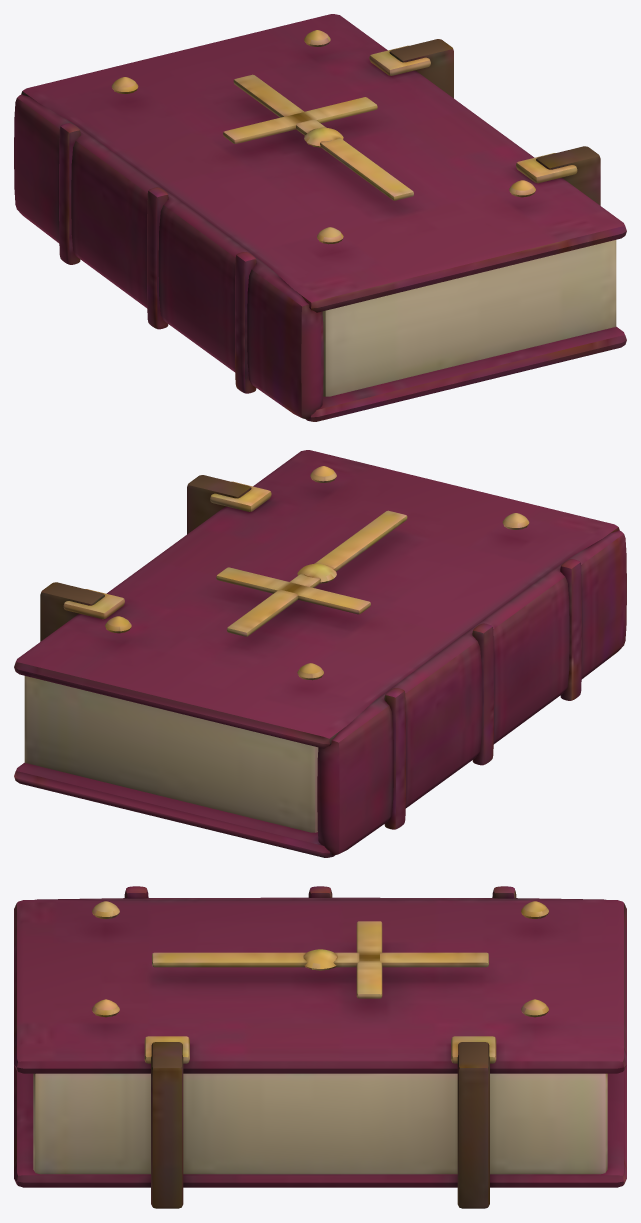
File: psalter.glb
3 renders of one model, top to bottom at view 1: azimuth 30°, elevation 25°; view 2: azimuth 150°, elevation 25°; view 3: azimuth 270°, elevation 25°, orthographic. The views are drawn at different scales.
Parts seen in each view (by area): view 1: psalter; view 2: psalter; view 3: psalter.
Part boxes in pixels (x1,y1,x2,y2): psalter: (14, 14, 626, 421); psalter: (14, 450, 626, 857); psalter: (14, 886, 626, 1208).
Bounding box in the file's own units: 0.139 × 0.0564 × 0.19.
Materials: 1 (1 with a texture image).
